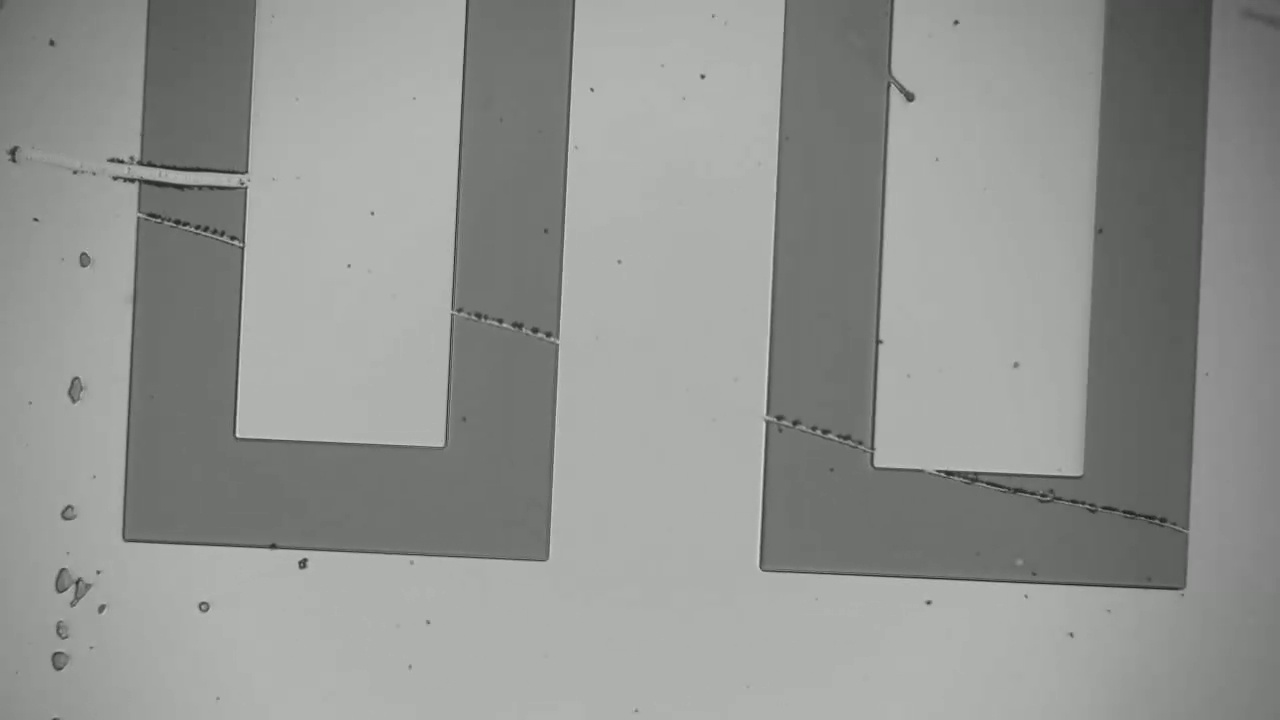Short_circuit: (937, 476, 1178, 522), (94, 141, 275, 201), (459, 249, 546, 369), (773, 392, 866, 455), (146, 205, 237, 243)
